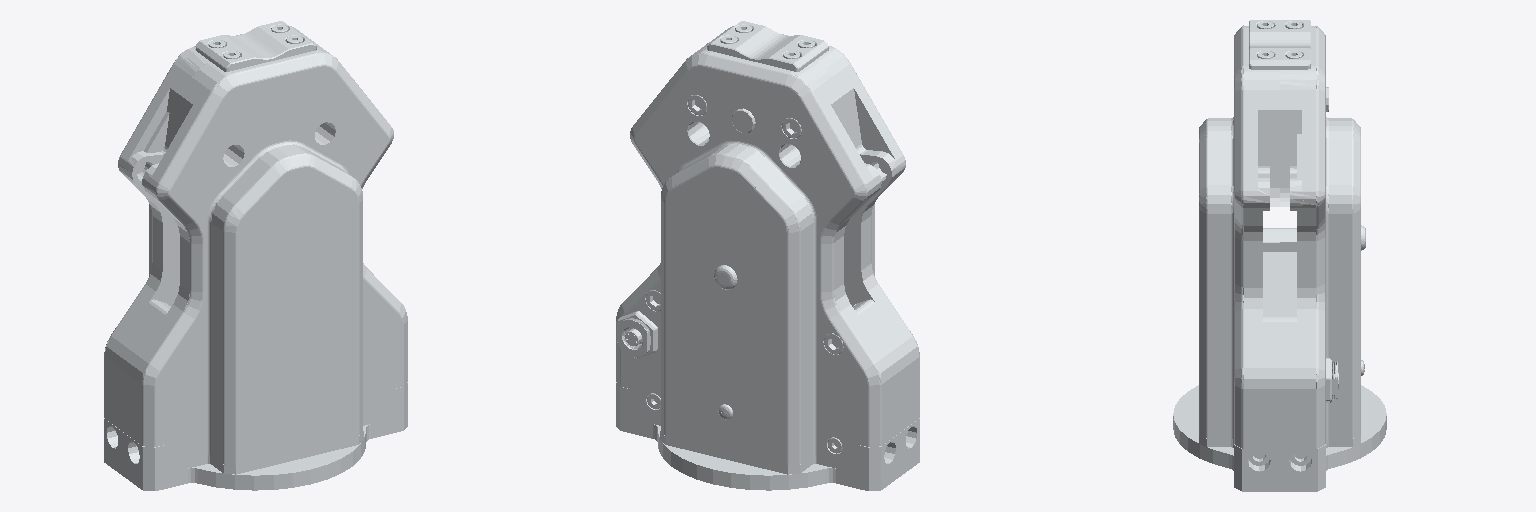
URDF robot description (fr5):
<?xml version="1.0" encoding="utf-8"?>
<robot name="fr5">
  <link name="base_link">
    <inertial>
      <origin xyz="-0.00031896 -0.00029673 0.042463" rpy="0 0 0" />
      <mass value="1.6185" />
      <inertia ixx="0.0030836" ixy="1.5354E-05" ixz="-1.9315E-05" iyy="0.0030825" iyz="-1.7918E-05" izz="0.0045209" />
    </inertial>
    <visual>
      <origin xyz="0 0 0" rpy="0 0 0" />
      <geometry>
        <mesh filename="package://dcp_description/meshes/robot/fr5/base_link.STL" />
      </geometry>
      <material name="">
        <color rgba="0.89804 0.91765 0.92941 1" />
      </material>
    </visual>
    <collision>
      <origin xyz="0 0 0" rpy="0 0 0" />
      <geometry>
        <mesh filename="package://dcp_description/meshes/robot/fr5/base_link.STL" />
      </geometry>
    </collision>
  </link>
  <joint name="j1" type="revolute">
    <origin xyz="0 0 0" rpy="0 0 0" />
    <parent link="base_link" />
    <child link="shoulder_link" />
    <axis xyz="0 0 1" />
    <limit lower="-3.0543" upper="3.0543" effort="150" velocity="3.15" />
  </joint>
  <link name="shoulder_link">
    <inertial>
      <origin xyz="5.0029E-07 -0.0040922 0.14629" rpy="0 0 0" />
      <mass value="4.3771" />
      <inertia ixx="0.010731" ixy="-8.0587E-09" ixz="-3.6773E-08" iyy="0.010408" iyz="0.00012853" izz="0.0081793" />
    </inertial>
    <visual>
      <origin xyz="0 0 0" rpy="0 0 0" />
      <geometry>
        <mesh filename="package://dcp_description/meshes/robot/fr5/shoulder_link.STL" />
      </geometry>
      <material name="">
        <color rgba="0.89804 0.91765 0.92941 1" />
      </material>
    </visual>
    <collision>
      <origin xyz="0 0 0" rpy="0 0 0" />
      <geometry>
        <mesh filename="package://dcp_description/meshes/robot/fr5/shoulder_link.STL" />
      </geometry>
    </collision>
  </link>
  <joint name="j2" type="revolute">
    <origin xyz="0 0 0.152" rpy="1.5708 0 0" />
    <parent link="shoulder_link" />
    <child link="upperarm_link" />
    <axis xyz="0 0 1" />
    <limit lower="-4.6251" upper="1.4835" effort="150" velocity="3.15" />
  </joint>
  <link name="upperarm_link">
    <inertial>
      <origin xyz="-0.2125 -5.7643E-09 0.1346" rpy="0 0 0" />
      <mass value="14.458" />
      <inertia ixx="0.028392" ixy="-1.337E-07" ixz="-3.9895E-09" iyy="0.4559" iyz="4.214E-08" izz="0.44974" />
    </inertial>
    <visual>
      <origin xyz="0 0 0" rpy="0 0 0" />
      <geometry>
        <mesh filename="package://dcp_description/meshes/robot/fr5/upperarm_link.STL" />
      </geometry>
      <material name="">
        <color rgba="0.89804 0.91765 0.92941 1" />
      </material>
    </visual>
    <collision>
      <origin xyz="0 0 0" rpy="0 0 0" />
      <geometry>
        <mesh filename="package://dcp_description/meshes/robot/fr5/upperarm_link.STL" />
      </geometry>
    </collision>
  </link>
  <joint name="j3" type="revolute">
    <origin xyz="-0.425 0 0" rpy="0 0 0" />
    <parent link="upperarm_link" />
    <child link="forearm_link" />
    <axis xyz="0 0 1" />
    <limit lower="-2.8274" upper="2.8274" effort="150" velocity="3.15" />
  </joint>
  <link name="forearm_link">
    <inertial>
      <origin xyz="-0.18793 -8.4503E-07 0.0066357" rpy="0 0 0" />
      <mass value="7.6737" />
      <inertia ixx="0.0085096" ixy="2.1613E-06" ixz="-0.0068678" iyy="0.16971" iyz="3.7086E-08" izz="0.16854" />
    </inertial>
    <visual>
      <origin xyz="0 0 0" rpy="0 0 0" />
      <geometry>
        <mesh filename="package://dcp_description/meshes/robot/fr5/forearm_link.STL" />
      </geometry>
      <material name="">
        <color rgba="0.89804 0.91765 0.92941 1" />
      </material>
    </visual>
    <collision>
      <origin xyz="0 0 0" rpy="0 0 0" />
      <geometry>
        <mesh filename="package://dcp_description/meshes/robot/fr5/forearm_link.STL" />
      </geometry>
    </collision>
  </link>
  <joint name="j4" type="revolute">
    <origin xyz="-0.39501 0 0" rpy="0 0 0" />
    <parent  link="forearm_link" />
    <child link="wrist1_link" />
    <axis xyz="0 0 1" />
    <limit lower="-4.6251" upper="1.4835" effort="28" velocity="3.2" />
  </joint>
  <link name="wrist1_link">
    <inertial>
      <origin xyz="4.98E-07 -0.003754 0.097155" rpy="0 0 0" />
      <mass value="1.6266" />
      <inertia ixx="0.00216" ixy="4.888E-09" ixz="3.1528E-08" iyy="0.0015455" iyz="3.7678E-05" izz="0.0019902" />
    </inertial>
    <visual>
      <origin xyz="0 0 0" rpy="0 0 0" />
      <geometry>
        <mesh filename="package://dcp_description/meshes/robot/fr5/wrist1_link.STL" />
      </geometry>
      <material name="">
        <color rgba="0.89804 0.91765 0.92941 1" />
      </material>
    </visual>
    <collision>
      <origin xyz="0 0 0" rpy="0 0 0" />
      <geometry>
        <mesh filename="package://dcp_description/meshes/robot/fr5/wrist1_link.STL" />
      </geometry>
    </collision>
  </link>
  <joint name="j5" type="revolute">
    <origin xyz="0 0 0.1021" rpy="1.5708 0 0" />
    <parent link="wrist1_link" />
    <child link="wrist2_link" />
    <axis xyz="0 0 1" />
    <limit lower="-3.0543" upper="3.0543" effort="28" velocity="3.2" />
  </joint>
  <link
    name="wrist2_link">
    <inertial>
      <origin xyz="-4.5588E-07 0.0038617 0.098257" rpy="0 0 0" />
      <mass value="1.5812" />
      <inertia ixx="0.0020612" ixy="8.7064E-09" ixz="-3.4742E-08" iyy="0.0014477" iyz="-2.8534E-05" izz="0.0019573" />
    </inertial>
    <visual>
      <origin xyz="0 0 0" rpy="0 0 0" />
      <geometry>
        <mesh filename="package://dcp_description/meshes/robot/fr5/wrist2_link.STL" />
      </geometry>
      <material name="">
        <color rgba="0.89804 0.91765 0.92941 1" />
      </material>
    </visual>
    <collision>
      <origins xyz="0 0 0" rpy="0 0 0" />
      <geometry>
        <mesh filename="package://dcp_description/meshes/robot/fr5/wrist2_link.STL" />
      </geometry>
    </collision>
  </link>
  <joint name="j6" type="revolute">
    <origin xyz="0 0 0.102" rpy="-1.5708 0 0" />
    <parent link="wrist2_link" />
    <child link="wrist3_link" />
    <axis xyz="0 0 1" />
    <limit lower="-3.0543" upper="3.0543" effort="28" velocity="3.2" />
  </joint>
  <link name="wrist3_link">
    <inertial>
      <origin xyz="7.7496E-05 1.7751E-05 0.076122" rpy="0 0 0" />
      <mass value="0.52542" />
      <inertia ixx="0.00027721" ixy="-1.8677E-09" ixz="-1.188E-07" iyy="0.00027839" iyz="2.2607E-07" izz="0.00041605" />
    </inertial>
    <visual>
      <origin xyz="0 0 0" rpy="0 0 0" />
      <geometry>
        <mesh filename="package://dcp_description/meshes/robot/fr5/wrist3_link.STL" />
      </geometry>
      <material name="">
        <color rgba="0.89804 0.91765 0.92941 1" />
      </material>
    </visual>
    <collision>
      <origin xyz="0 0 0" rpy="0 0 0" />
      <geometry>
        <mesh filename="package://dcp_description/meshes/robot/fr5/wrist3_link.STL" />
      </geometry>
    </collision>
  </link>
  <joint name="wrist3-flange" type="fixed">
    <parent link="wrist3_link"/>
    <child link="flange"/>
    <origin rpy="0 -1.5707963267948966 -1.5707963267948966" xyz="0 0 0.1"/>
  </joint>
  <link name="flange"/>
  <joint name="flange-tool0" type="fixed">
    <origin rpy="1.5707963267948966 0 1.5707963267948966" xyz="0 0 0"/>
    <parent link="flange"/>
    <child link="tool0"/>
  </joint>
  <link name="tool0"/>

  <!-- Add Grasp Frame -->
  <joint name="grasp_joint" type="fixed">
    <origin rpy="0 0 0" xyz="0 0 0.17"/>
    <axis xyz="0 0 1"/>
    <parent link="tool0"/>
    <child link="grasp_frame"/>
  </joint>
  <link name="grasp_frame">
    <inertial>
      <!-- Dummy inertial parameters to avoid link lumping-->
      <mass value="0.01"/>
      <inertia ixx="0.0001" ixy="0.0" ixz="0.0" iyy="0.0001" iyz="0.0" izz="0.0001"/>
      <origin rpy="0 0 0" xyz="0 0 0"/>
    </inertial>
  </link>

</robot>

--- Facts derived from the render (not from the file) ---
Views: 3 orthographic renders of the robot side by side, from view 1: azimuth 30°, elevation 25°; view 2: azimuth 150°, elevation 25°; view 3: azimuth 270°, elevation 25°.
Model fr5 with 10 links and 9 joints (6 revolute, 3 fixed), rooted at base_link, posed all joints at 0.
Links seen in each view (by area): view 1: base_link; view 2: base_link; view 3: base_link.
Boxes of the visible links, left/top/right/bottom form: base_link: left=104, top=21, right=407, bottom=490; base_link: left=616, top=21, right=919, bottom=490; base_link: left=1173, top=20, right=1386, bottom=491.
Bounding box of the posed robot: 0.093 × 0.067 × 0.1382 m (x, y, z).
Meshes: 7 distinct files referenced, 1 mesh visuals loaded (1 binary STL); not drawn: 6 (reference not matched to a file when rendering).